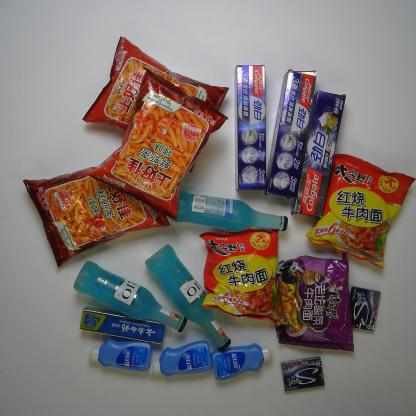Alcohol: (144, 241, 233, 352), (72, 257, 189, 334), (175, 187, 293, 236)
Gum: (346, 283, 386, 335), (279, 353, 327, 394)
Instant Noodles: (310, 142, 416, 266), (198, 227, 282, 325), (276, 256, 351, 351)
Personal Hygiene: (290, 88, 348, 220), (264, 66, 317, 199), (231, 63, 268, 192), (75, 304, 174, 346), (211, 341, 272, 380), (88, 337, 154, 373), (151, 340, 213, 377)
Puffed Food: (81, 34, 231, 176), (98, 66, 228, 215), (21, 144, 172, 272)
